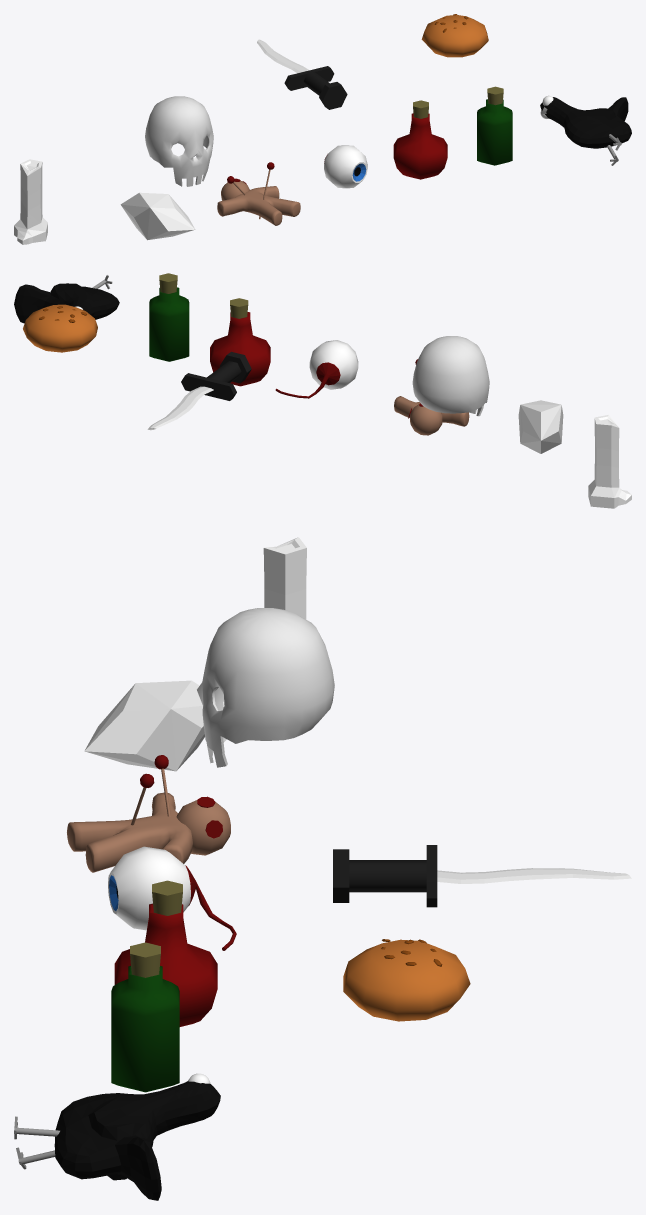
Rendered from props.FBX.
3 views of the same model, one above another, from view 1: azimuth 30°, elevation 25°; view 2: azimuth 150°, elevation 25°; view 3: azimuth 270°, elevation 25° (orthographic). The views are drawn at different scales.
Visible parts, largest first — view 1: caveira, galinha, sangue, boneco, cristal, veneno, pão, Vela, faca, olho; view 2: caveira, veneno, pão, galinha, sangue, Vela, faca, olho, cristal, boneco; view 3: caveira, galinha, veneno, pão, boneco, cristal, faca, sangue, olho, Vela.
Part boxes in pixels (x1=…): caveira: x1=145, y1=96, x2=213, y2=186; galinha: x1=540, y1=95, x2=631, y2=165; sangue: x1=393, y1=100, x2=447, y2=179; boneco: x1=217, y1=162, x2=300, y2=225; cristal: x1=120, y1=192, x2=195, y2=240; veneno: x1=477, y1=86, x2=512, y2=165; pão: x1=421, y1=14, x2=488, y2=57; Vela: x1=14, y1=159, x2=47, y2=244; faca: x1=257, y1=39, x2=347, y2=109; olho: x1=324, y1=145, x2=367, y2=188; caveira: x1=412, y1=336, x2=489, y2=416; veneno: x1=149, y1=273, x2=189, y2=361; pão: x1=23, y1=304, x2=97, y2=352; galinha: x1=14, y1=275, x2=119, y2=323; sangue: x1=210, y1=298, x2=270, y2=386; Vela: x1=588, y1=415, x2=631, y2=508; faca: x1=147, y1=351, x2=251, y2=430; olho: x1=275, y1=340, x2=358, y2=398; cristal: x1=518, y1=400, x2=563, y2=453; boneco: x1=394, y1=359, x2=469, y2=435; caveira: x1=197, y1=608, x2=334, y2=767; galinha: x1=14, y1=1073, x2=220, y2=1200; veneno: x1=111, y1=942, x2=179, y2=1092; pão: x1=343, y1=939, x2=470, y2=1021; boneco: x1=67, y1=755, x2=230, y2=872; cristal: x1=84, y1=680, x2=224, y2=771; faca: x1=333, y1=845, x2=631, y2=907; sangue: x1=114, y1=880, x2=217, y2=1026; olho: x1=108, y1=846, x2=236, y2=950; Vela: x1=263, y1=537, x2=306, y2=619.
Bounding box in the file's own units: 56.8 × 10.38 × 27.54.
